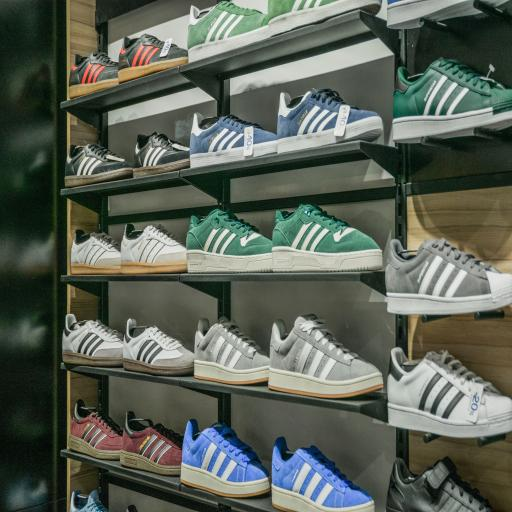shoe: (388, 348, 511, 438), (393, 59, 511, 142), (386, 239, 511, 315), (269, 315, 383, 398), (272, 437, 374, 511), (272, 205, 382, 271), (181, 420, 270, 497), (277, 89, 382, 153), (386, 457, 492, 511), (187, 210, 271, 273), (195, 318, 269, 384), (188, 2, 269, 62), (190, 114, 277, 167), (123, 319, 194, 375), (120, 412, 183, 475), (268, 0, 381, 35), (118, 34, 188, 83), (121, 224, 187, 274), (68, 400, 122, 460), (63, 314, 122, 366), (65, 144, 132, 187), (387, 0, 481, 29), (134, 133, 189, 177), (69, 52, 118, 98), (71, 230, 120, 274), (70, 490, 108, 511), (127, 505, 137, 511)
